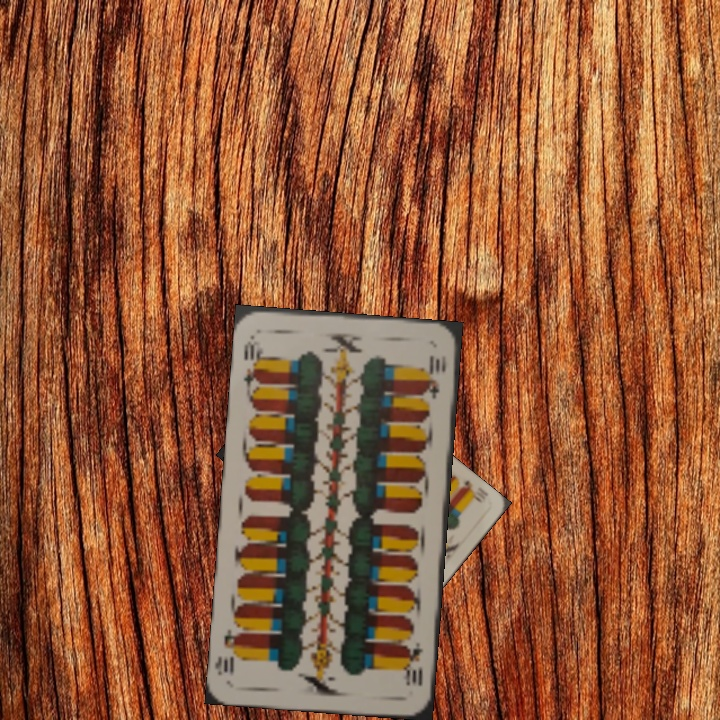E10: (239, 331, 266, 390), (400, 638, 426, 689), (457, 476, 491, 505)
